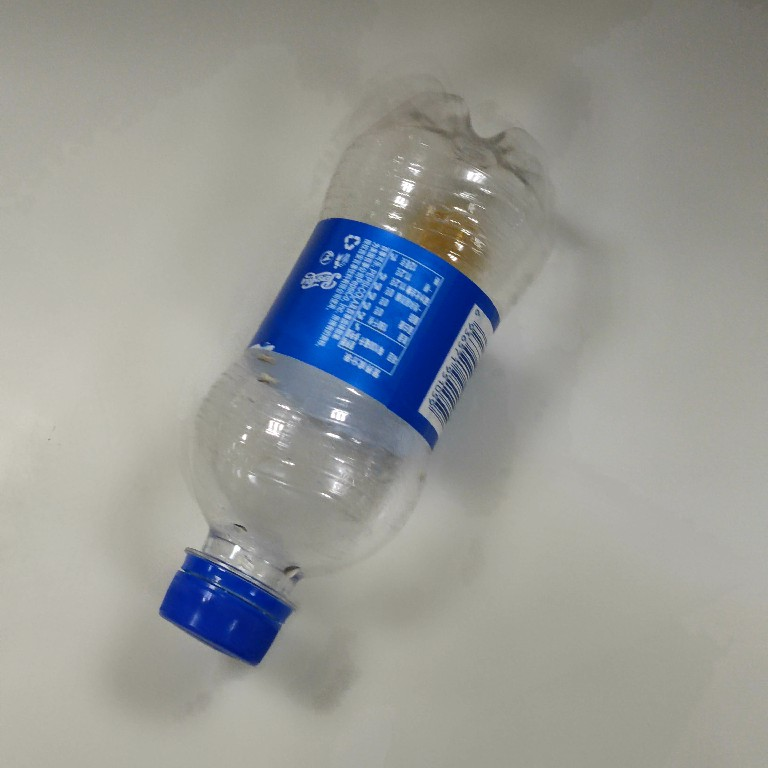bottle: (154, 83, 557, 676)
